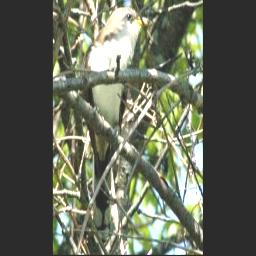Cuckoo: (80, 6, 154, 241)
